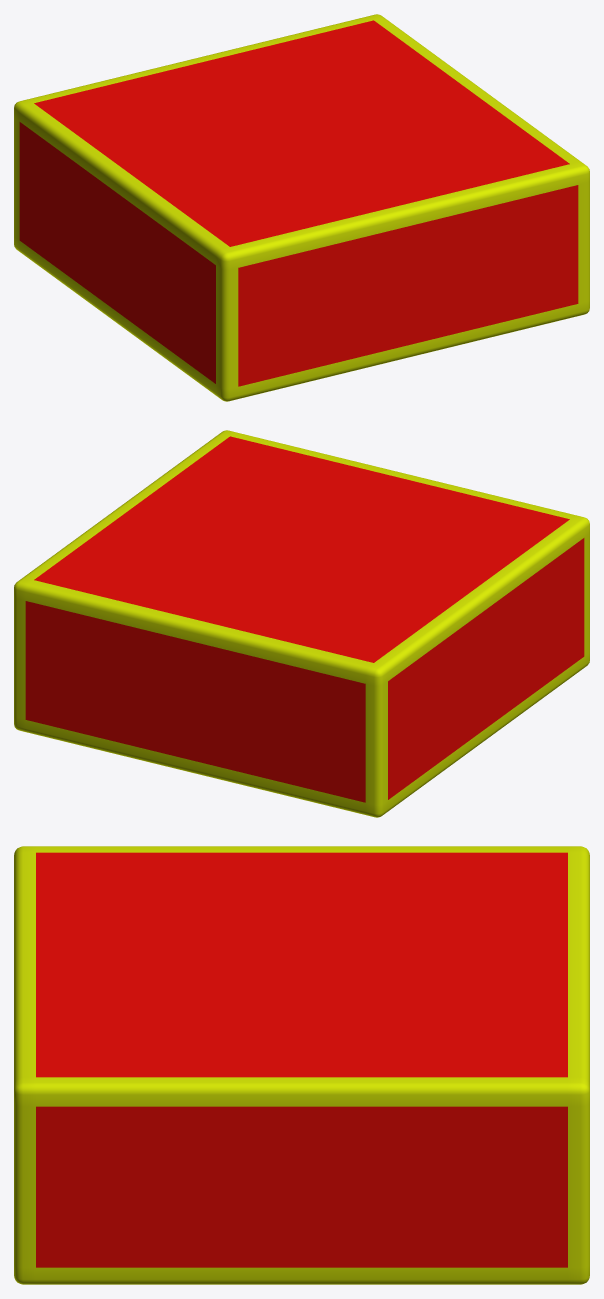
Rendered from arena.fbx.
3 views of the same model, one above another, from view 1: azimuth 30°, elevation 25°; view 2: azimuth 150°, elevation 25°; view 3: azimuth 270°, elevation 25° (orthographic). The views are drawn at different scales.
Parts seen in each view (by area): view 1: FloorToWall90.095; view 2: FloorToWall90.095; view 3: FloorToWall90.095.
Boxes of the visible parts, x1,y1,x2,y2 form: FloorToWall90.095: (14, 14, 589, 401); FloorToWall90.095: (14, 430, 589, 817); FloorToWall90.095: (14, 846, 589, 1284).
Size of the model in its own units: 26 by 10.02 by 26.
